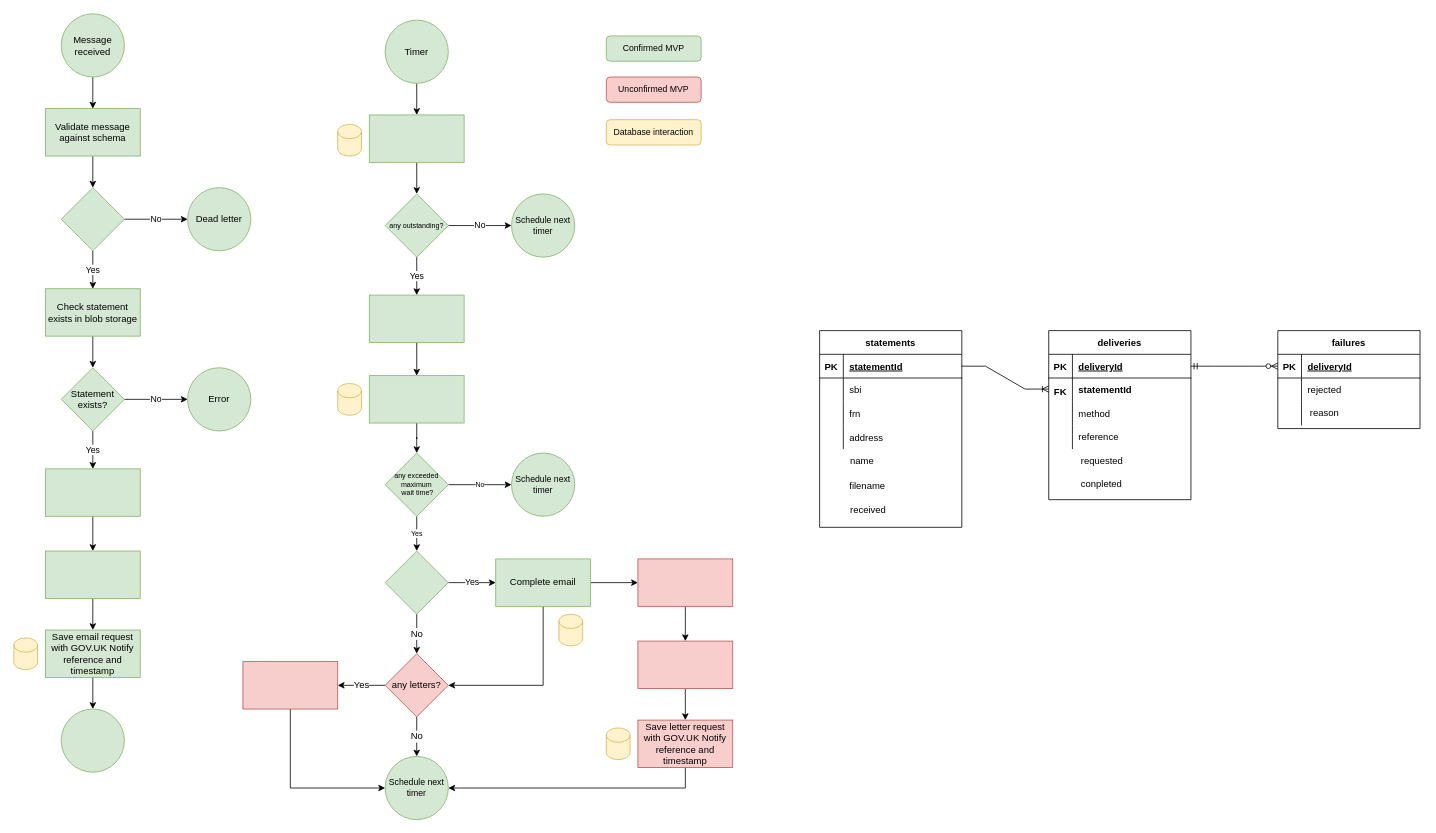
This 1436x833 diagram has some shape labels left out. Here are the shapes that lost their labels. From the top down, the centre of each, then its label:
At point 416,138: "Get all requests that have not been delivered".
At point 92,219: "Is valid?".
At point 416,318: "Check GOV.UK Notify status".
At point 416,399: "Update delivery status".
At point 92,492: "Build email request".
At point 92,574: "Send email request with GOV.UK Notify".
At point 416,582: "any emails?".
At point 685,582: "Build letter request".
At point 685,664: "Send letter request with GOV.UK Notify".
At point 290,685: "Raise error event and mark request completed".
At point 92,740: "Message Completed".
